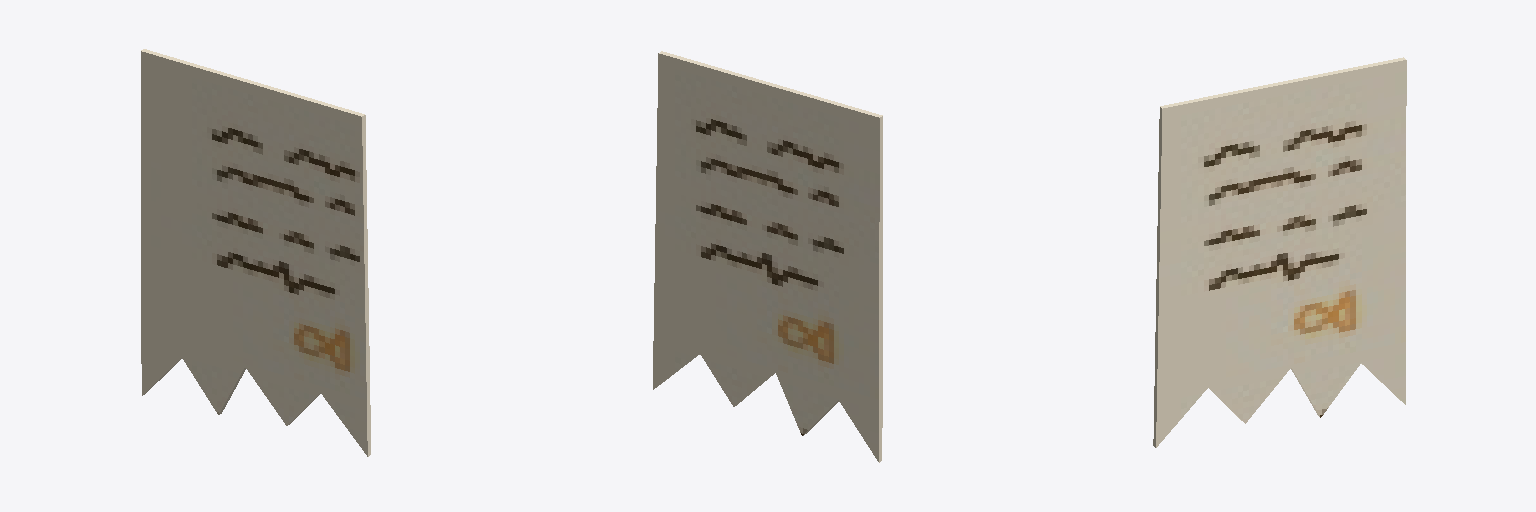
The picture shows the model from 3 angles: view 1: azimuth 30°, elevation 25°; view 2: azimuth 210°, elevation 25°; view 3: azimuth 270°, elevation 25°; orthographic projection.
Visible parts, largest first — view 1: Note; view 2: Note; view 3: Note.
Boxes of the visible parts, x1=… form: Note: x1=141, y1=49, x2=370, y2=456; Note: x1=653, y1=51, x2=882, y2=462; Note: x1=1153, y1=57, x2=1406, y2=447.
Size of the model in its own units: 0.3957 by 1.22 by 0.8135.
1 materials, 1 textured.